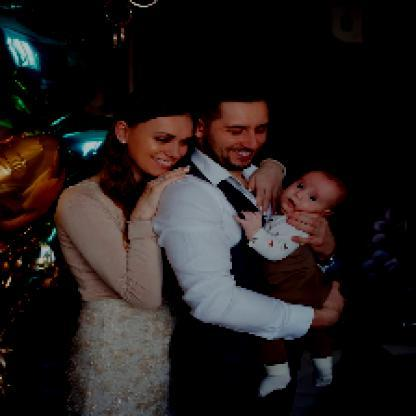child: (234, 170, 351, 398)
